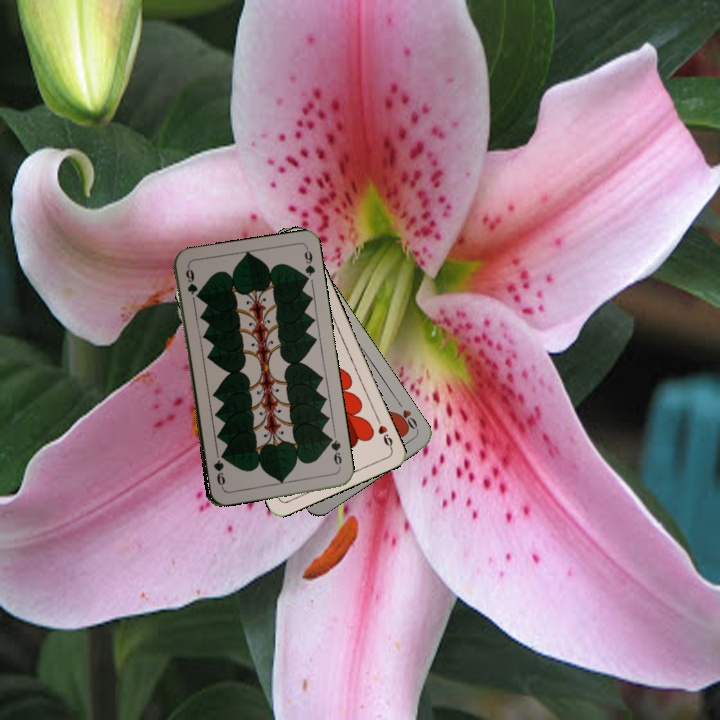G9: (324, 432, 344, 472), (181, 263, 200, 297)
H9: (372, 413, 395, 452)
HO: (392, 397, 420, 433)
